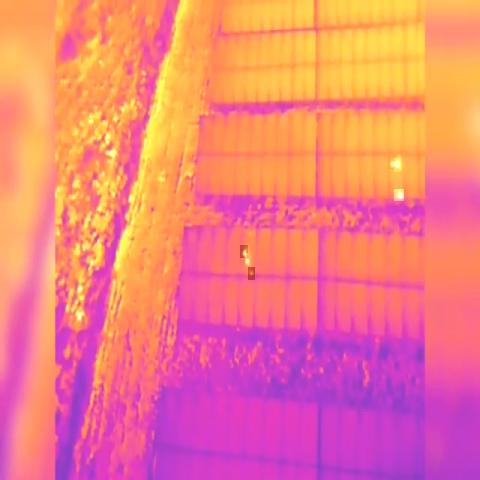fault: (394, 189, 404, 201), (388, 156, 396, 169), (240, 245, 248, 258), (394, 158, 401, 172), (248, 267, 255, 280), (245, 253, 251, 265)
